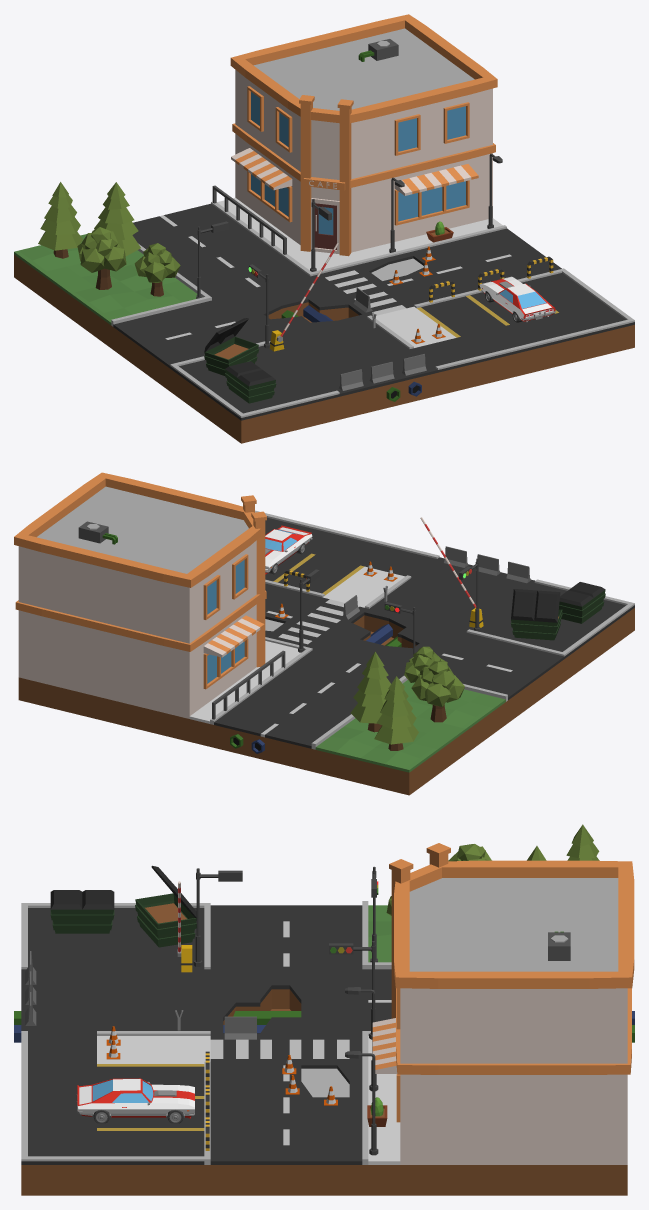
File: Miasto scena.glb
3 renders of one model, top to bottom at view 1: azimuth 30°, elevation 25°; view 2: azimuth 150°, elevation 25°; view 3: azimuth 270°, elevation 25°, orthographic. The views are drawn at different scales.
Visible parts, largest first — view 1: Plane, Plane.005, Plane.007, Car, Plane.008, Plane.006, Plane.009, Plane.002; view 2: Plane, Plane.008, Plane.005, Plane.007, Plane.006, Plane.009, Car, Plane.002; view 3: Plane, Car, Plane.009, Plane.008, Plane.016, Cube.002, Plane.005, Plane.010, Plane.015, Plane.007.
Part boxes in pixels (x1,y1,x2,y2): Plane: (14,14,634,443); Plane.005: (38,182,82,258); Plane.007: (77,227,126,289); Car: (479,276,555,321); Plane.008: (204,318,258,375); Plane.006: (94,182,140,256); Plane.009: (225,361,276,403); Plane.002: (134,243,180,296); Plane: (14,472,634,795); Plane.008: (511,589,562,640); Plane.005: (374,676,418,750); Plane.007: (411,661,464,722); Plane.006: (350,651,390,732); Plane.009: (559,582,605,623); Car: (265,525,312,574); Plane.002: (404,646,447,682); Plane: (14,843,634,1195); Car: (76,1078,194,1118); Plane.009: (50,890,114,933); Plane.008: (135,865,196,947); Plane.016: (193,868,242,966); Cube.002: (224,1016,256,1039); Plane.005: (566,824,599,860); Plane.010: (345,1051,378,1155); Plane.015: (329,941,376,1039); Plane.007: (448,844,491,861).
Bounding box in the file's own units: 30.32 × 12.87 × 30.72.
